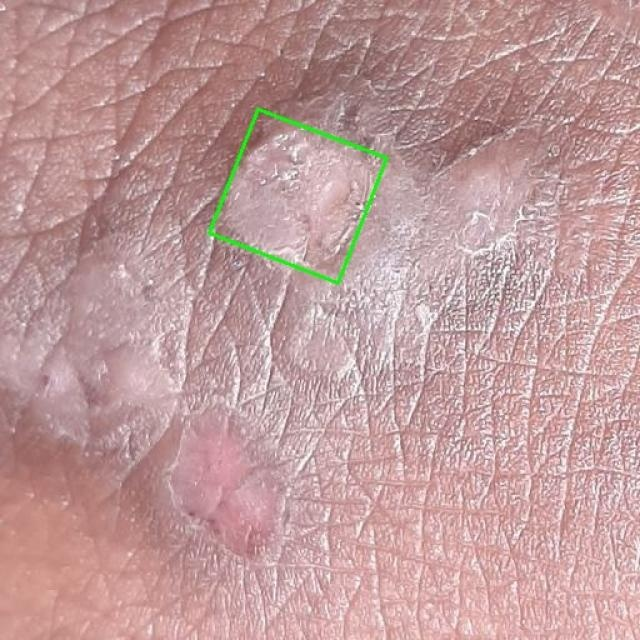Contact Dermatitis: (210, 109, 386, 283)
